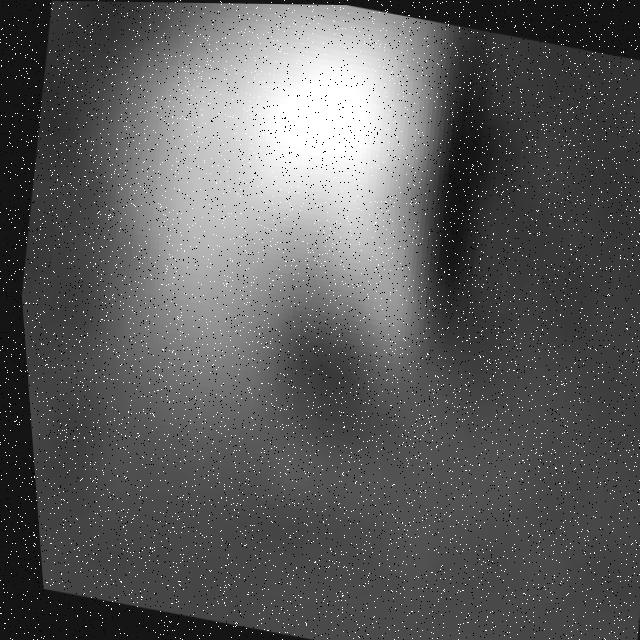person: (36, 1, 505, 533)
